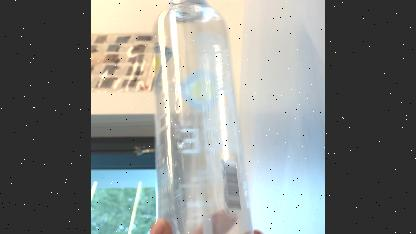Plastic Bottle: (152, 0, 255, 234)
